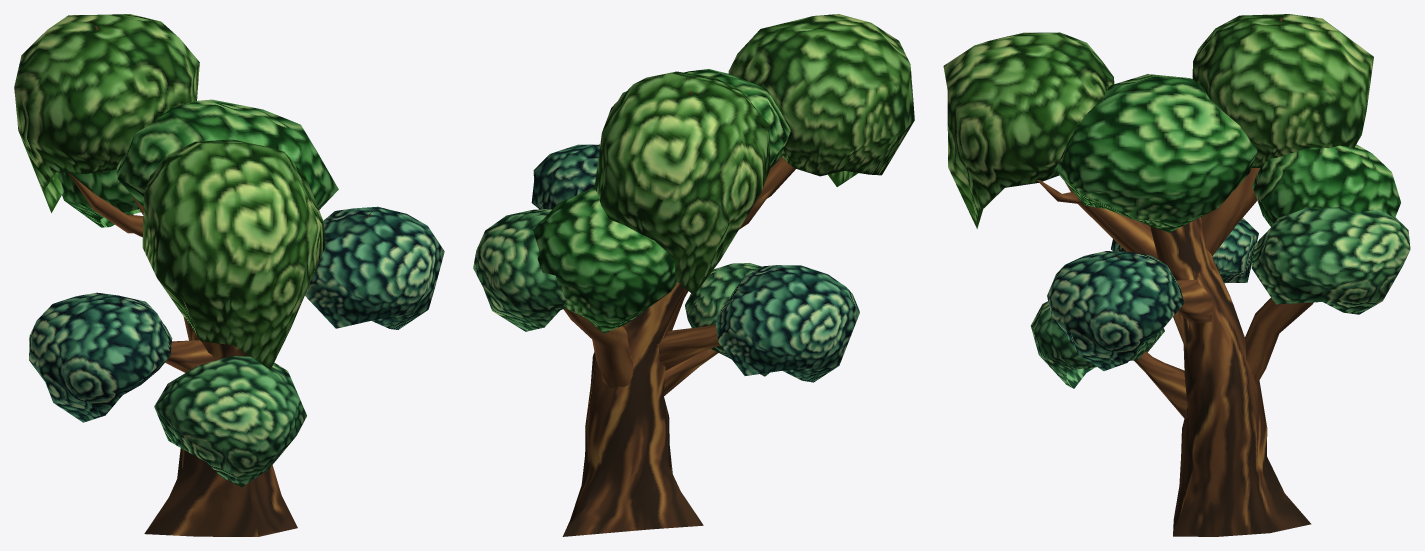
The model's file is Ntree_3_2.fbx.
The picture shows the model from 3 angles, left to right: view 1: azimuth 30°, elevation 25°; view 2: azimuth 150°, elevation 25°; view 3: azimuth 270°, elevation 25°; orthographic projection. The views are drawn at different scales.
Visible parts, largest first — view 1: Ntree_3_2; view 2: Ntree_3_2; view 3: Ntree_3_2.
Part boxes in pixels (x1=…): Ntree_3_2: x1=14, y1=14, x2=444, y2=536; Ntree_3_2: x1=473, y1=14, x2=914, y2=536; Ntree_3_2: x1=943, y1=14, x2=1410, y2=536.
Size of the model in its own units: 200 by 266 by 246.
